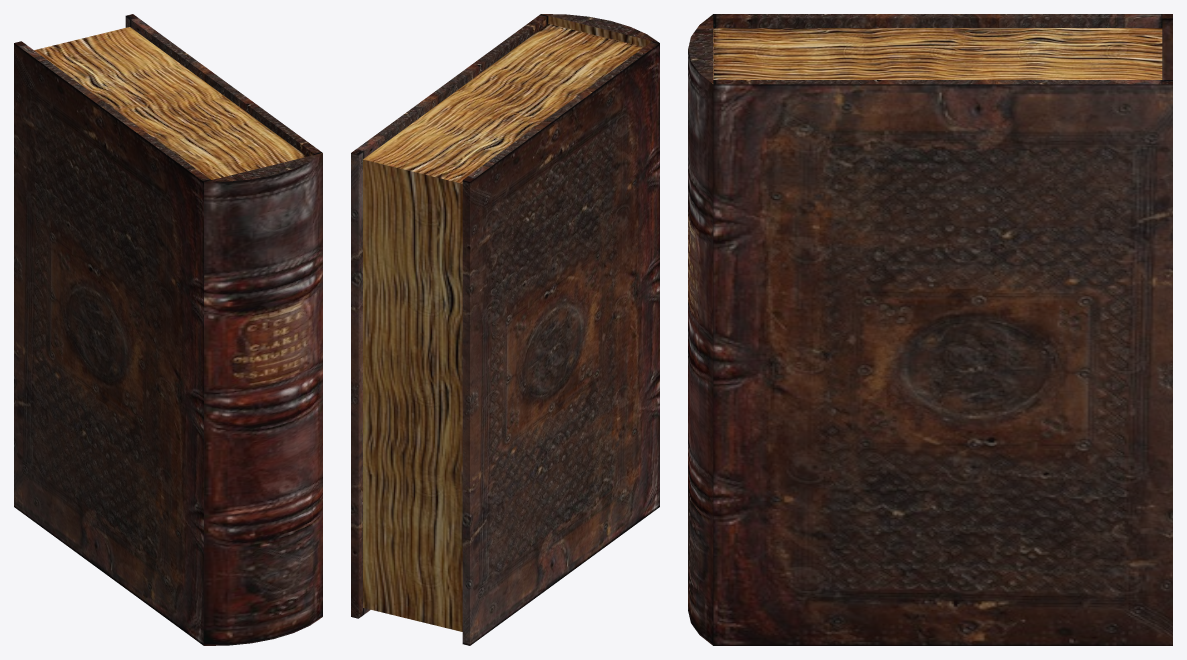
Rendered from Book.fbx.
3 renders of one model, left to right at view 1: azimuth 30°, elevation 25°; view 2: azimuth 150°, elevation 25°; view 3: azimuth 270°, elevation 25°, orthographic. The views are drawn at different scales.
Visible parts, largest first — view 1: Circle; view 2: Circle; view 3: Circle.
Boxes of the visible parts, x1=… form: Circle: x1=14, y1=14, x2=322, y2=645; Circle: x1=351, y1=14, x2=659, y2=645; Circle: x1=688, y1=14, x2=1172, y2=645.
Size of the model in its own units: 111 by 414 by 324.
1 material, 1 textured.
